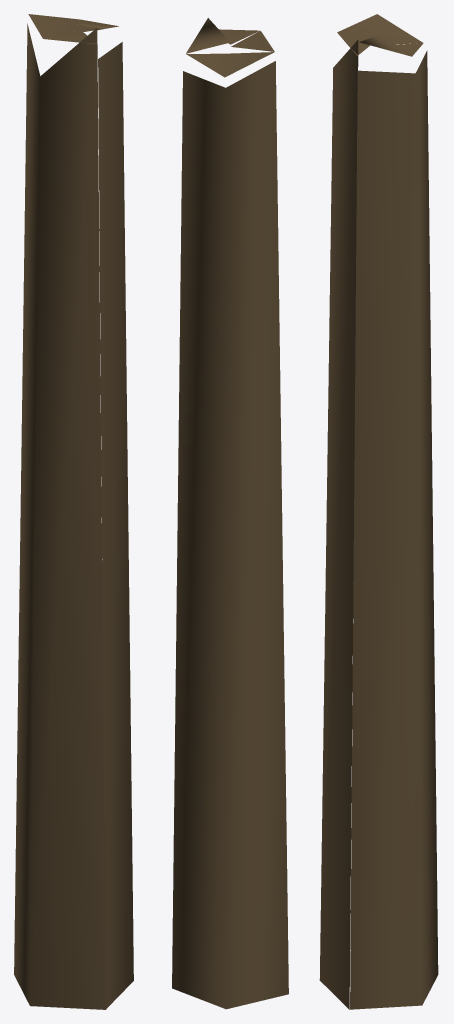
Rendered from fence-post.glb.
3 renders of one model, left to right at view 1: azimuth 30°, elevation 25°; view 2: azimuth 210°, elevation 25°; view 3: azimuth 330°, elevation 25°, orthographic. The views are drawn at different scales.
Parts seen in each view (by area): view 1: 울타리.기둥; view 2: 울타리.기둥; view 3: 울타리.기둥.
Boxes of the visible parts, box(x1,y1,x2,y2) form: 울타리.기둥: box(14, 14, 133, 1009); 울타리.기둥: box(172, 18, 288, 1009); 울타리.기둥: box(319, 14, 438, 1009).
Bounding box in the file's own units: 0.1219 × 1.03 × 0.1139.
